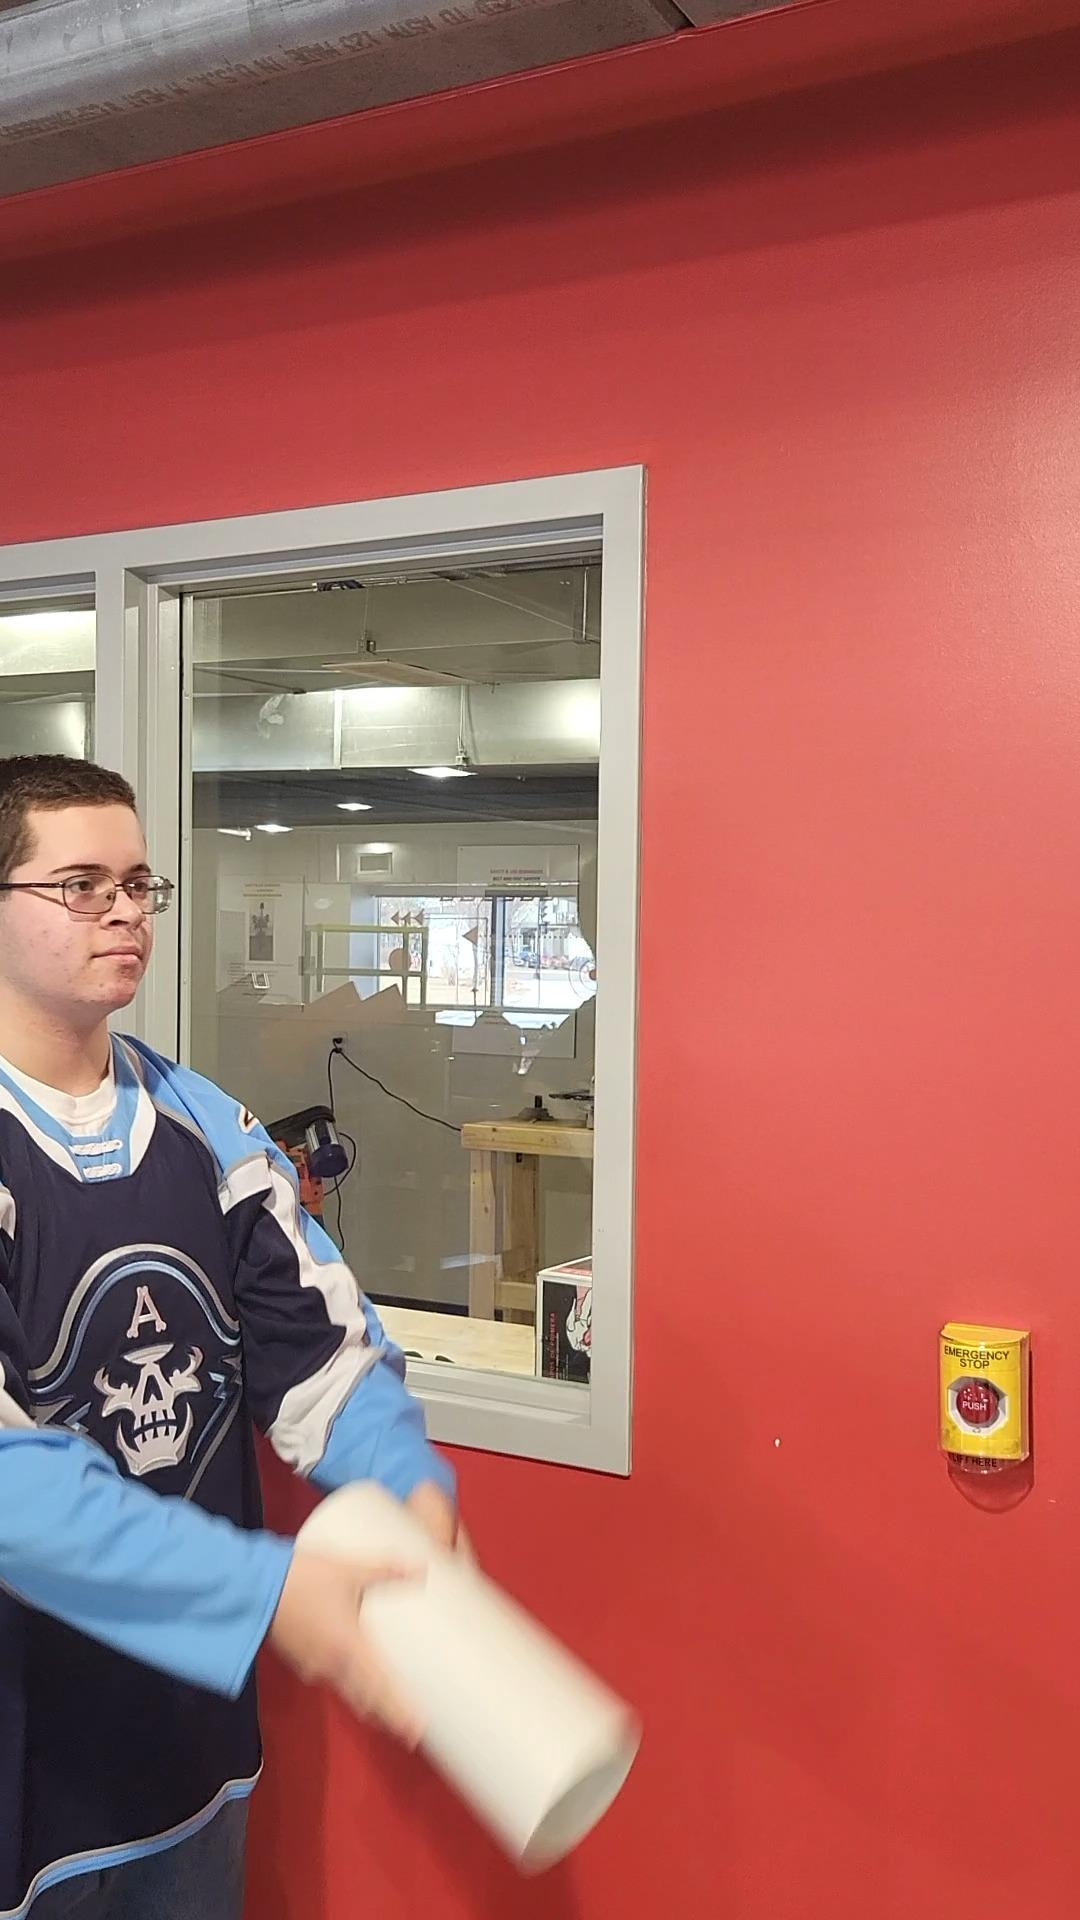coral: (266, 1468, 644, 1880)
